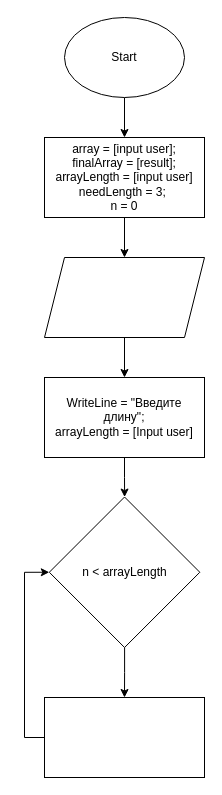
Image size: 222x795. Some labels were removed from this diagram. Each missing label, with the centre of its shape:
array finalArray arrayLength needLength n: (x=124, y=297)
WhiteLine = "Введите значение (n +1) элемента"; array[n] = [Input user]; n++;: (x=124, y=737)
